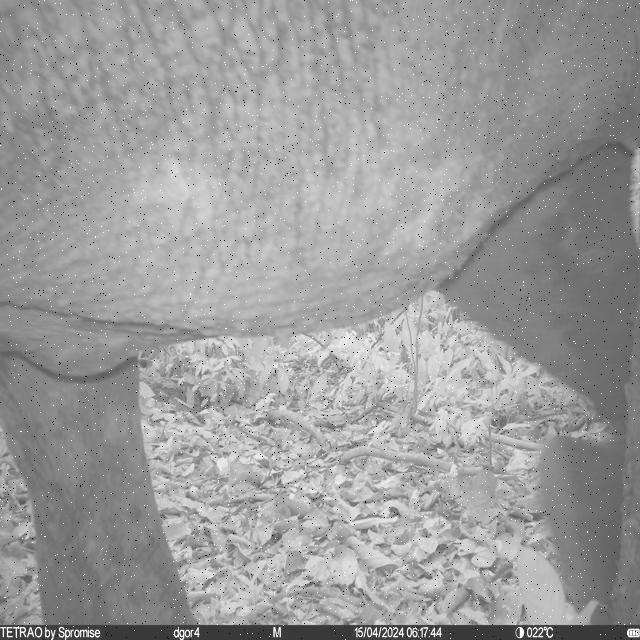elephant: (0, 0, 640, 628)
